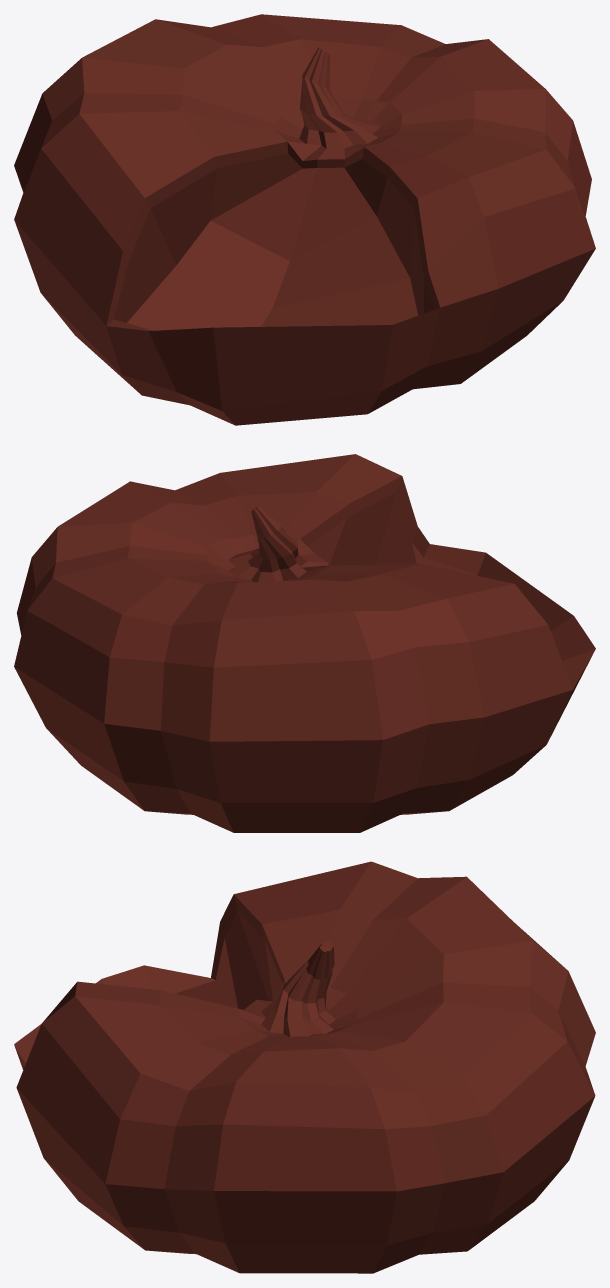
The model's file is BrokenPumpkin006.fbx.
3 renders of one model, top to bottom at view 1: azimuth 30°, elevation 25°; view 2: azimuth 150°, elevation 25°; view 3: azimuth 270°, elevation 25°, orthographic. The views are drawn at different scales.
Parts seen in each view (by area): view 1: BrokenPumpkin006; view 2: BrokenPumpkin006; view 3: BrokenPumpkin006.
Boxes of the visible parts, x1,y1,x2,y2 form: BrokenPumpkin006: (14, 14, 595, 425); BrokenPumpkin006: (14, 454, 595, 832); BrokenPumpkin006: (14, 861, 595, 1273).
Size of the model in its own units: 117 by 64.57 by 119.
